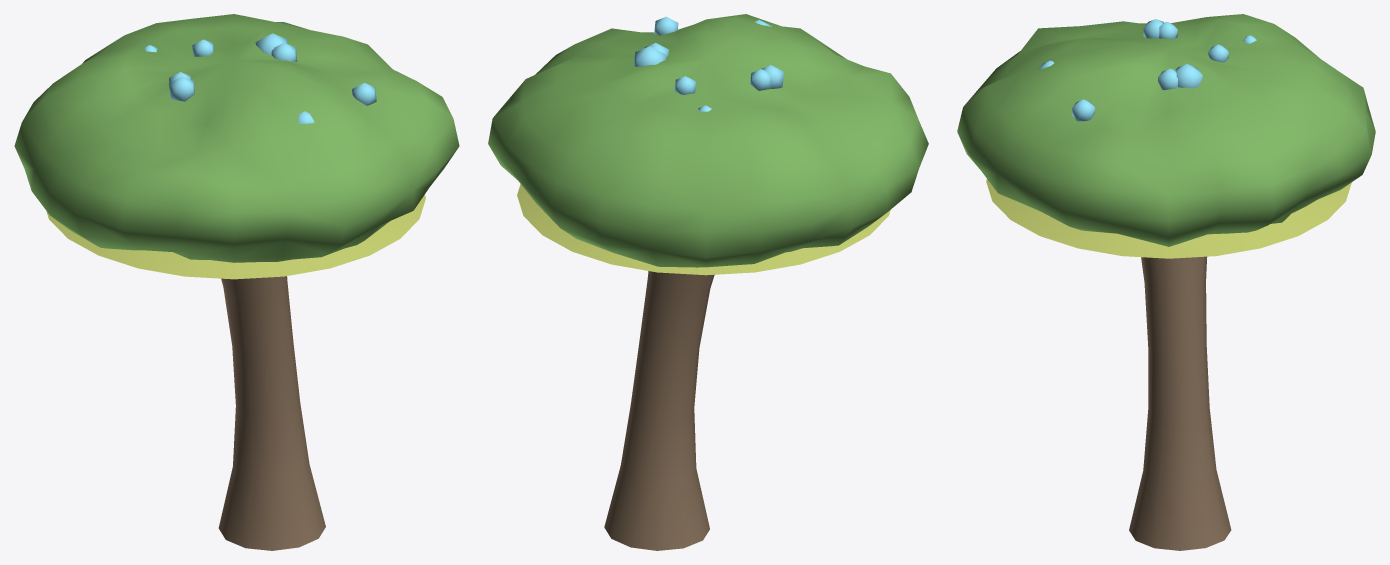
File: tree_fungal.fbx
3 renders of one model, left to right at view 1: azimuth 30°, elevation 25°; view 2: azimuth 150°, elevation 25°; view 3: azimuth 270°, elevation 25°, orthographic. The views are drawn at different scales.
Parts seen in each view (by area): view 1: tree_fungal_LOD0; view 2: tree_fungal_LOD0; view 3: tree_fungal_LOD0.
Part boxes in pixels (box(x1,y1,x2,y2)): tree_fungal_LOD0: box(14, 14, 459, 550); tree_fungal_LOD0: box(488, 14, 928, 550); tree_fungal_LOD0: box(957, 14, 1375, 550).
Size of what is drawn, in the model's own units: 5.69 by 7.07 by 5.72.
